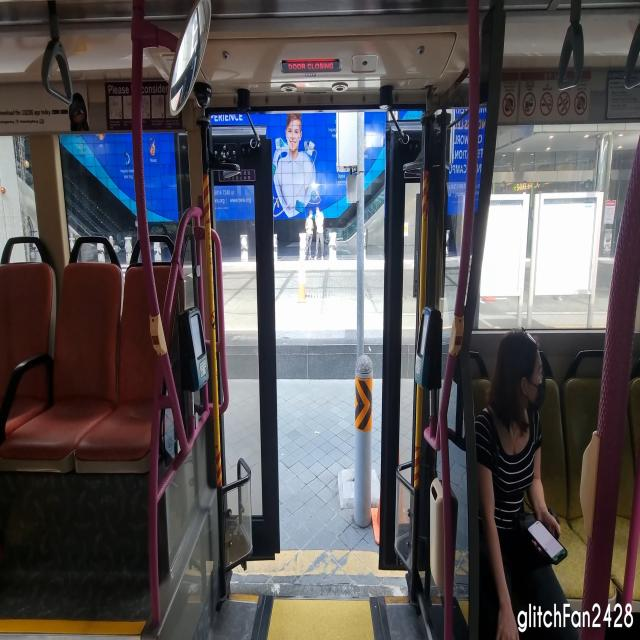bus-door: (212, 127, 280, 567), (379, 122, 421, 584)
